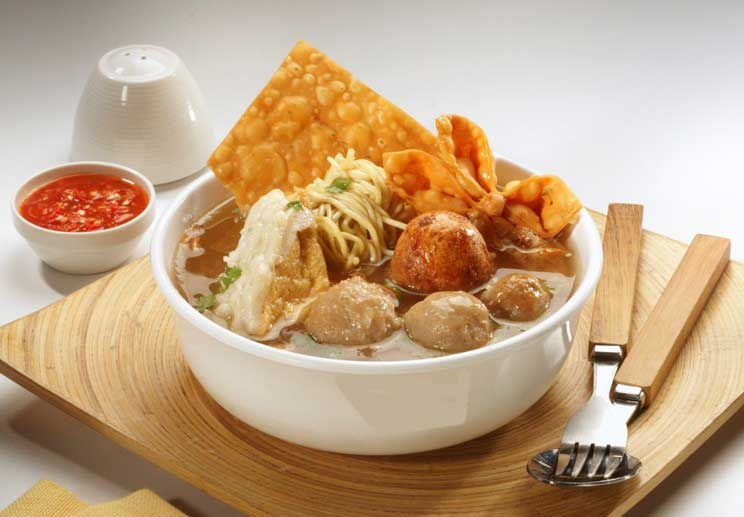bakso_malang: (176, 44, 584, 353)
